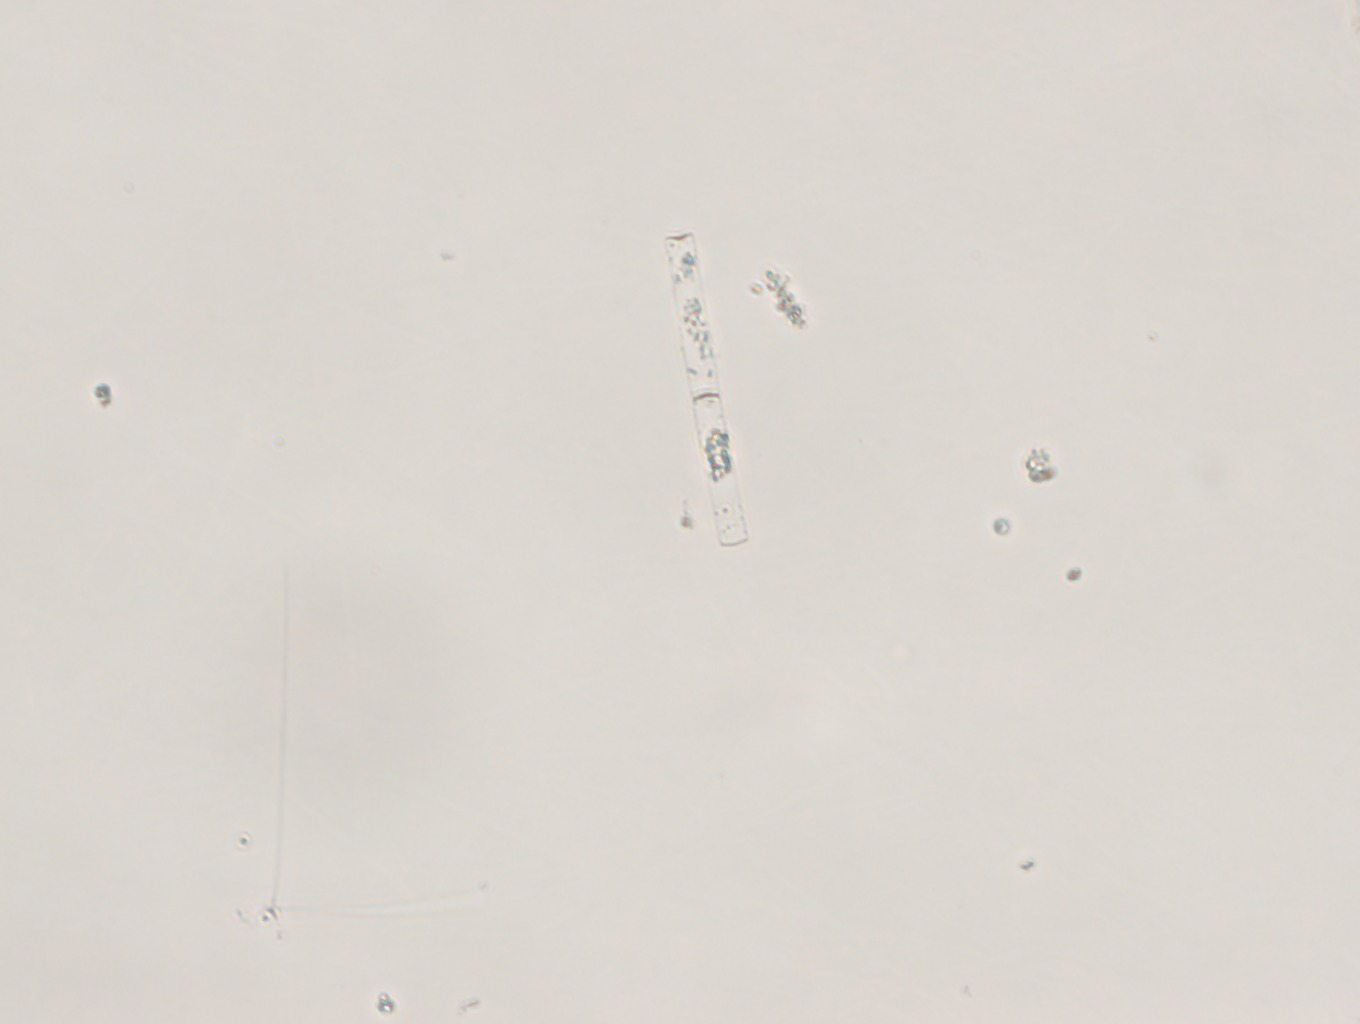guinardia flaccida: (650, 222, 769, 561)
